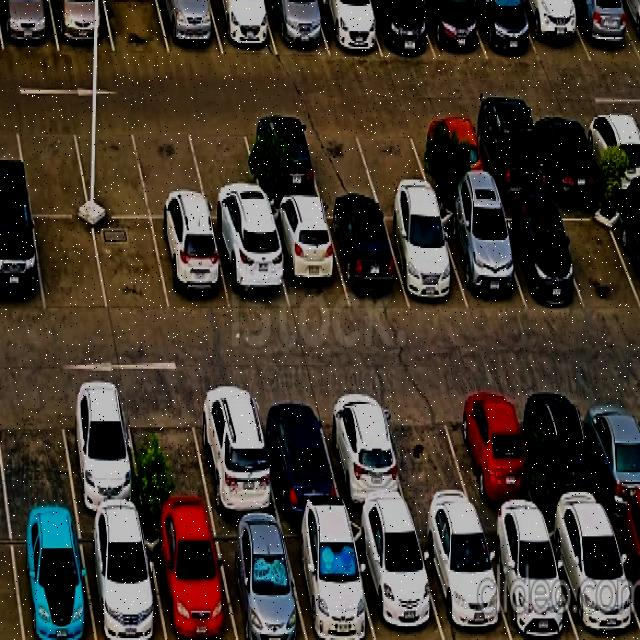empty: (378, 389, 478, 520), (124, 388, 213, 519), (0, 387, 76, 519), (553, 199, 640, 306), (187, 118, 265, 219), (72, 119, 150, 217), (133, 119, 208, 218), (93, 219, 169, 314), (15, 118, 89, 215), (33, 217, 107, 312), (354, 117, 432, 196), (302, 118, 378, 198), (104, 0, 169, 54)
occupied: (446, 388, 540, 519), (317, 390, 411, 517), (190, 386, 279, 519), (545, 516, 640, 640), (480, 520, 578, 640), (415, 520, 511, 640), (253, 390, 343, 517), (58, 386, 144, 518), (522, 386, 608, 518), (212, 522, 307, 640), (350, 521, 444, 640), (281, 521, 375, 640), (144, 521, 236, 640), (79, 520, 166, 640), (10, 520, 95, 640), (437, 206, 526, 310), (492, 206, 582, 308), (381, 205, 468, 309), (267, 204, 349, 312), (325, 204, 409, 308), (577, 387, 640, 515), (152, 220, 231, 312), (211, 221, 289, 311), (468, 116, 550, 199), (243, 118, 321, 201), (412, 117, 490, 197), (529, 113, 604, 193), (517, 0, 591, 64), (566, 0, 640, 62), (582, 113, 640, 191), (0, 212, 44, 313), (471, 0, 539, 61), (420, 0, 487, 60), (366, 0, 435, 58), (314, 0, 382, 57), (209, 0, 277, 55), (158, 0, 223, 55), (609, 514, 640, 626), (265, 0, 328, 55), (50, 0, 114, 52), (610, 198, 640, 292)
